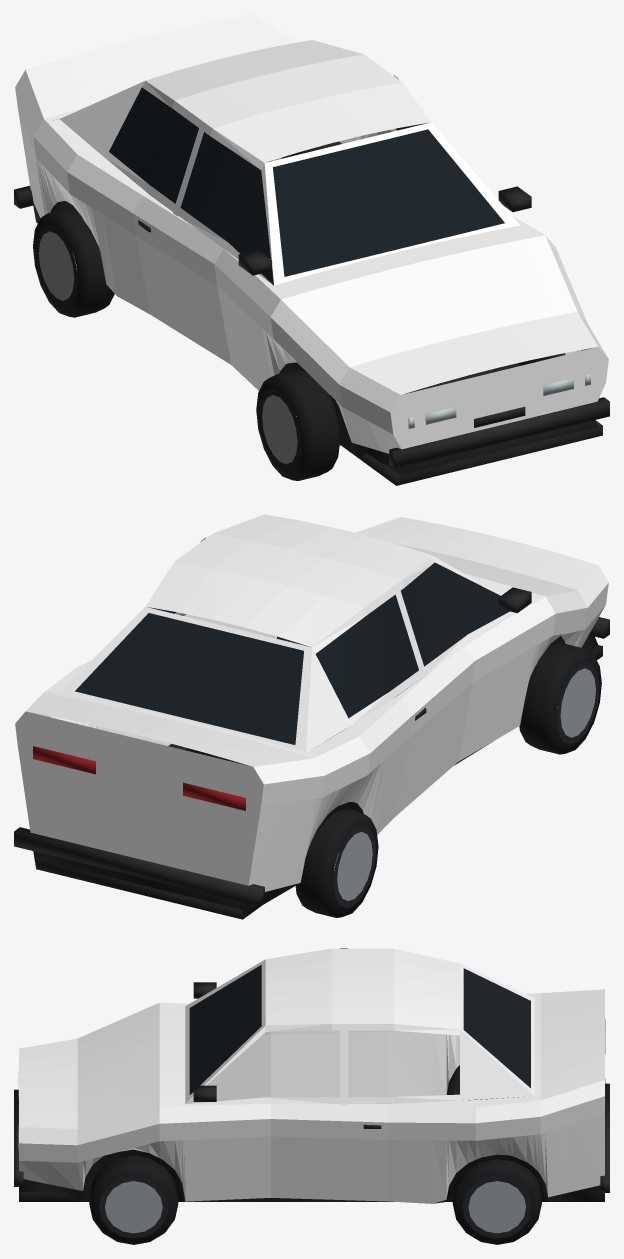
File: kosame_giz.glb
The picture shows the model from 3 angles, top to bottom: view 1: azimuth 30°, elevation 25°; view 2: azimuth 150°, elevation 25°; view 3: azimuth 270°, elevation 25°; orthographic projection. The views are drawn at different scales.
Visible parts, largest first — view 1: Body_Paint, Body_Details, Mount_FrontLeft_Wheel_Details, Mount_RearLeft_Wheel_Details; view 2: Body_Paint, Body_Details, Mount_FrontLeft_Wheel_Details, Mount_RearLeft_Wheel_Details; view 3: Body_Paint, Body_Details, Mount_FrontRight_Wheel_Details, Mount_RearRight_Wheel_Details.
Boxes of the visible parts, x1,y1,x2,y2 form: Body_Paint: [15, 14, 608, 453]; Body_Details: [14, 87, 609, 485]; Mount_FrontLeft_Wheel_Details: [256, 369, 340, 480]; Mount_RearLeft_Wheel_Details: [33, 207, 114, 317]; Body_Paint: [15, 514, 608, 891]; Body_Details: [14, 562, 609, 919]; Mount_FrontLeft_Wheel_Details: [519, 642, 601, 754]; Mount_RearLeft_Wheel_Details: [295, 808, 378, 917]; Body_Paint: [19, 948, 604, 1203]; Body_Details: [14, 965, 609, 1203]; Mount_FrontRight_Wheel_Details: [89, 1155, 178, 1244]; Mount_RearRight_Wheel_Details: [452, 1159, 541, 1244].
Size of the model in its own units: 1.6 by 1.27 by 3.35.
Materials: 2 (1 with a texture image).
